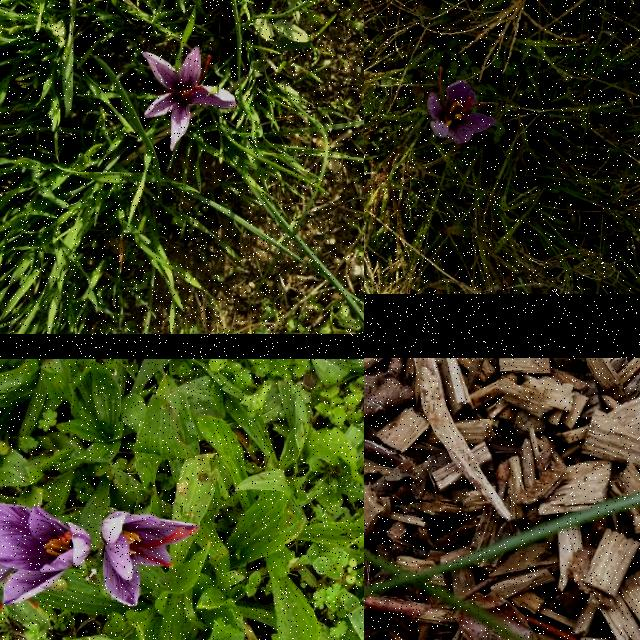flower: (142, 48, 238, 152), (0, 502, 90, 609), (102, 511, 200, 607), (427, 65, 497, 145)
